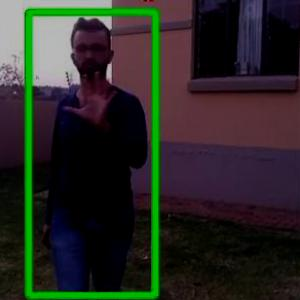follow_hand: (62, 65, 121, 129)
